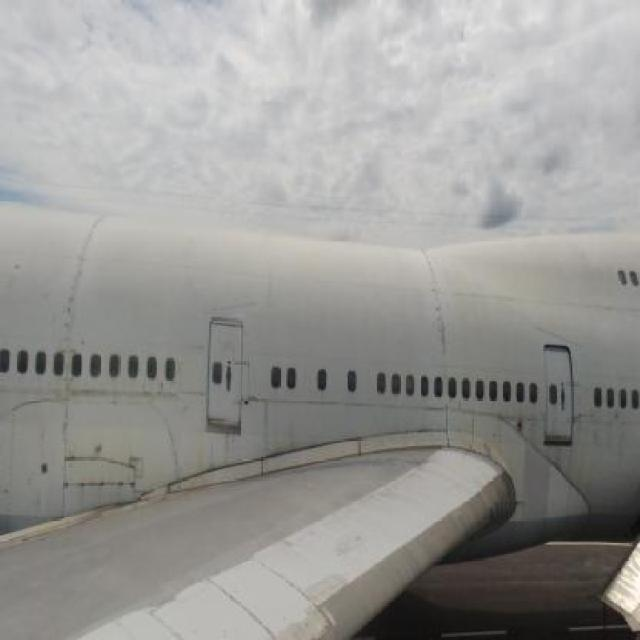Scartch: (60, 222, 100, 342), (54, 454, 146, 500), (419, 249, 453, 368), (43, 388, 183, 414)
